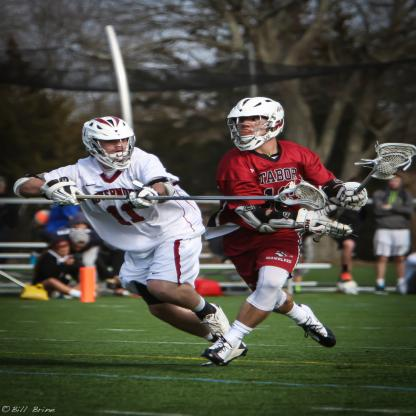Helmet: (226, 96, 285, 150), (84, 116, 136, 170)
